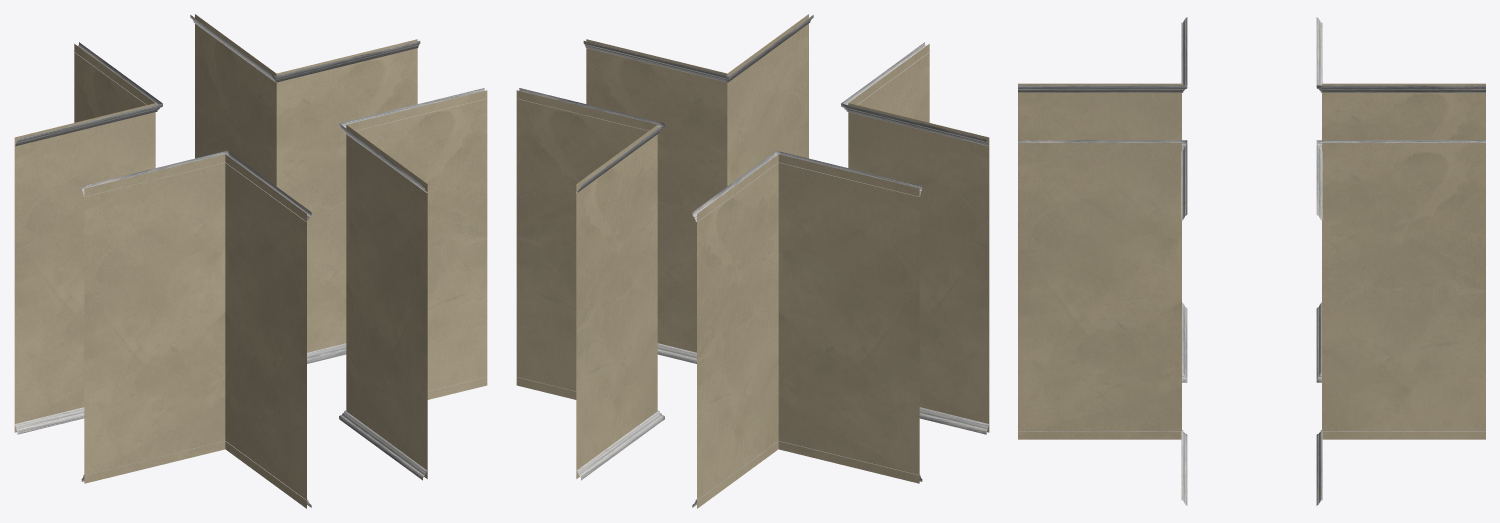
The model's file is 4wayWall.fbx.
3 views of the same model, side by side, from view 1: azimuth 30°, elevation 25°; view 2: azimuth 150°, elevation 25°; view 3: azimuth 270°, elevation 25° (orthographic).
Parts seen in each view (by area): view 1: Cube.007; view 2: Cube.007; view 3: Cube.007.
Part boxes in pixels (box(x1,y1,x2,y2)): Cube.007: box(14, 14, 487, 508); Cube.007: box(516, 14, 989, 508); Cube.007: box(1018, 17, 1485, 505).
Bounding box in the file's own units: 2 × 1.4 × 2.
